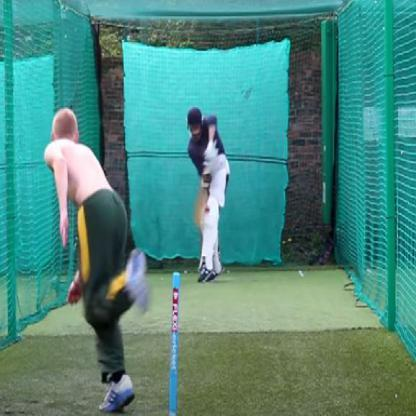ball: (201, 202, 212, 218)
